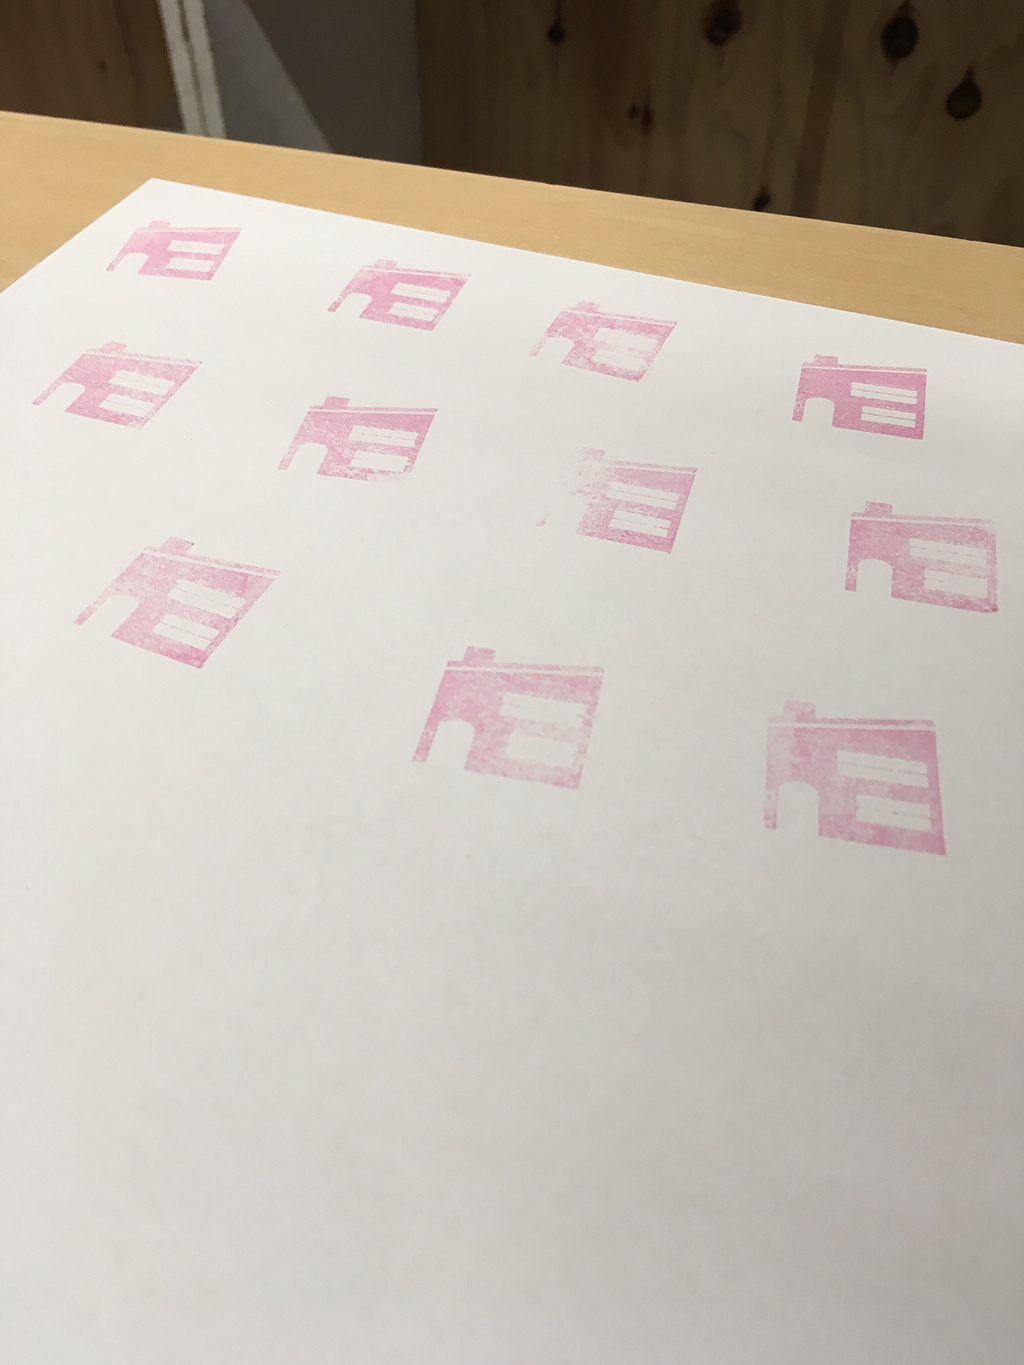house: (409, 625, 635, 815), (745, 688, 973, 877), (62, 515, 291, 689), (828, 481, 1014, 625), (525, 425, 713, 567), (273, 375, 456, 513), (27, 327, 221, 440), (774, 332, 943, 452), (518, 289, 678, 394), (318, 244, 478, 346), (100, 209, 248, 292)
